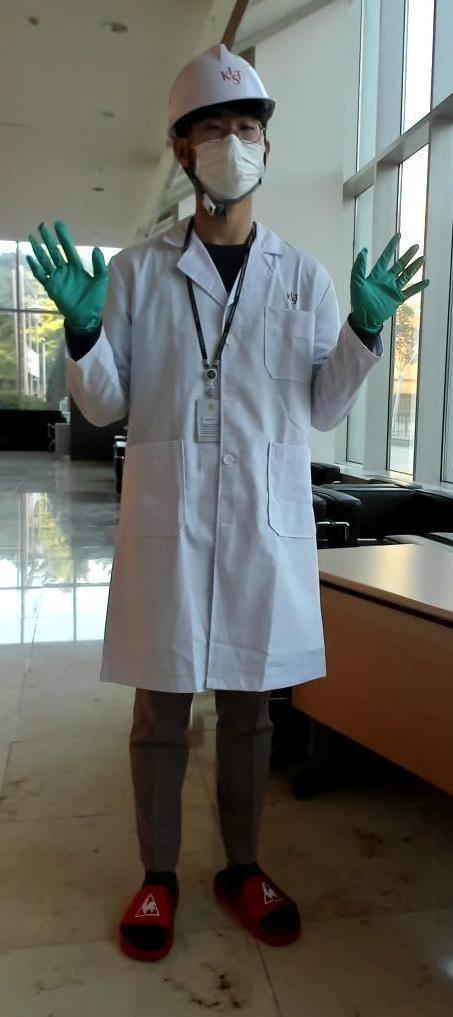lab_coat: (102, 256, 342, 693)
